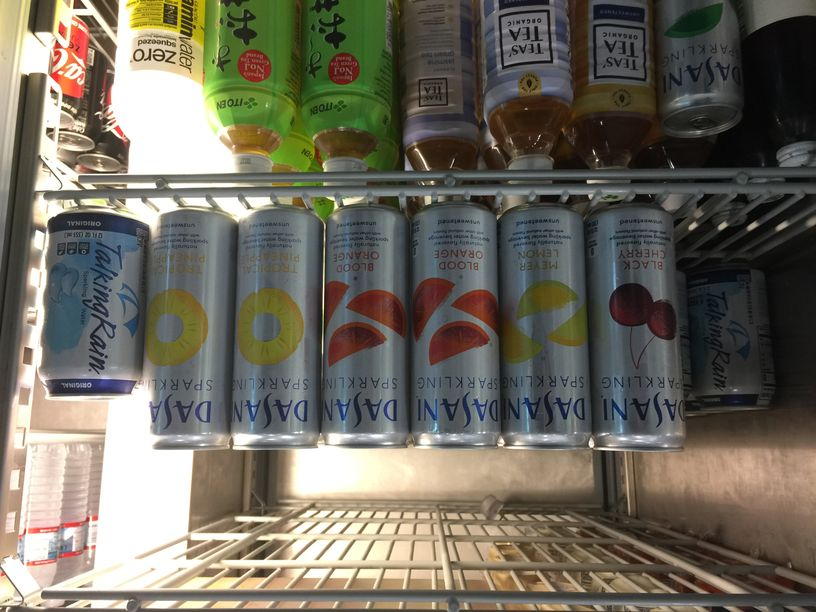blackcherry: (586, 207, 685, 451)
blood_orange: (324, 207, 409, 448), (412, 208, 497, 449)
competitor_02: (39, 204, 142, 398), (690, 265, 775, 411)
lemon: (500, 204, 588, 449)
lime: (657, 1, 743, 137)
pineapple: (233, 206, 321, 451), (147, 206, 231, 451)
